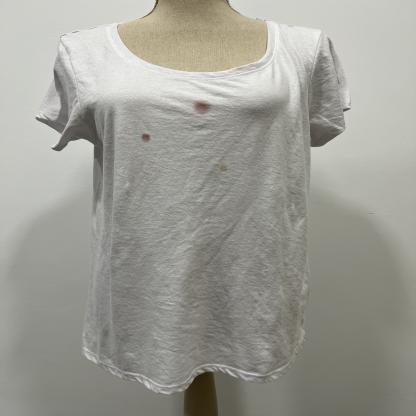stain: (190, 99, 214, 116), (140, 132, 152, 143), (218, 164, 230, 172)
